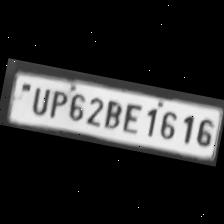1: (175, 109, 198, 144), (140, 103, 162, 136)
2: (82, 92, 106, 125)
6: (191, 113, 218, 147), (154, 106, 180, 140), (64, 88, 88, 122)
B: (100, 95, 124, 129)
E: (118, 99, 144, 134)
P: (45, 85, 69, 118)
U: (27, 82, 52, 114)
